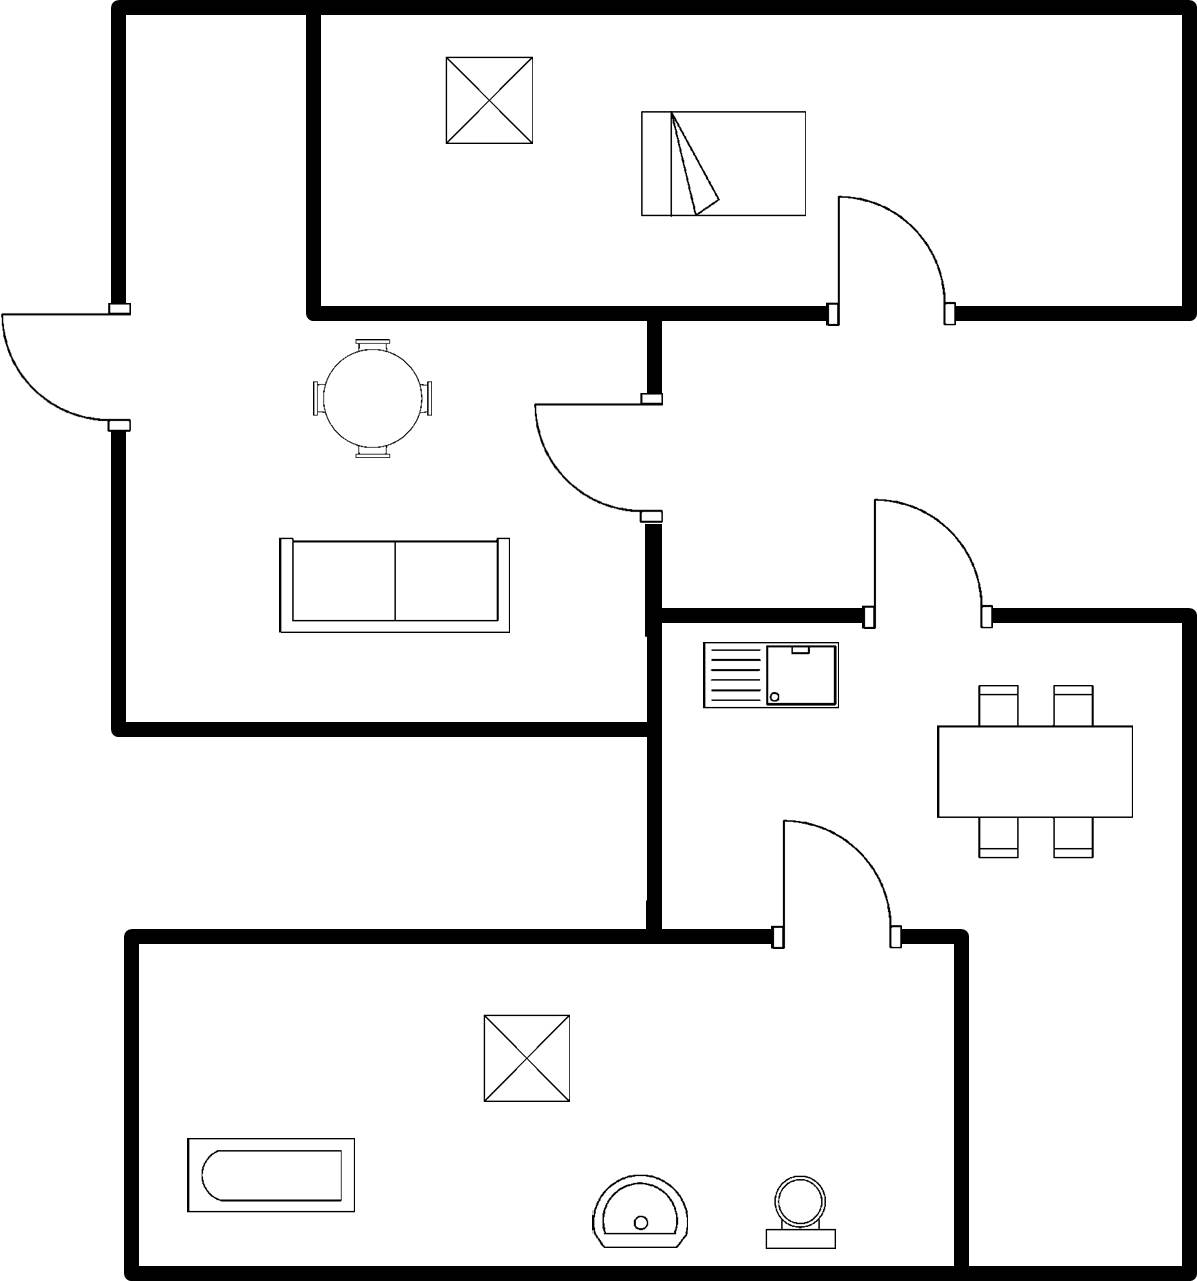bed: (629, 104, 816, 234)
coffee_table: (436, 48, 544, 158), (471, 1006, 579, 1110)
dining_table: (930, 679, 1143, 866)
large_sink: (751, 1165, 850, 1254)
large_sofa: (268, 528, 518, 645)
round_table: (301, 331, 448, 468)
sink: (693, 633, 850, 719)
small_sink: (583, 1166, 701, 1255)
tub: (174, 1131, 368, 1216)
